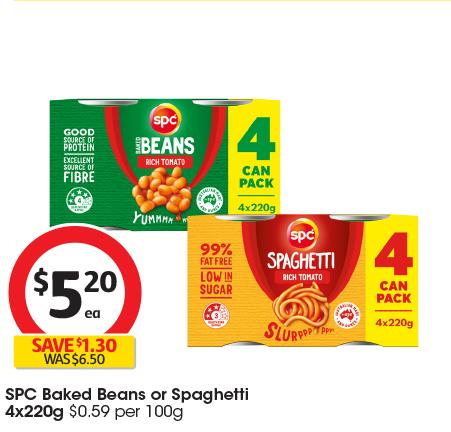description_block: (3, 376, 258, 428)
price_main: (24, 257, 126, 332)
product_image_block: (177, 199, 435, 358), (43, 75, 282, 237)
promo_text_block: (16, 333, 131, 374)
unit_price_block: (65, 401, 193, 426)
